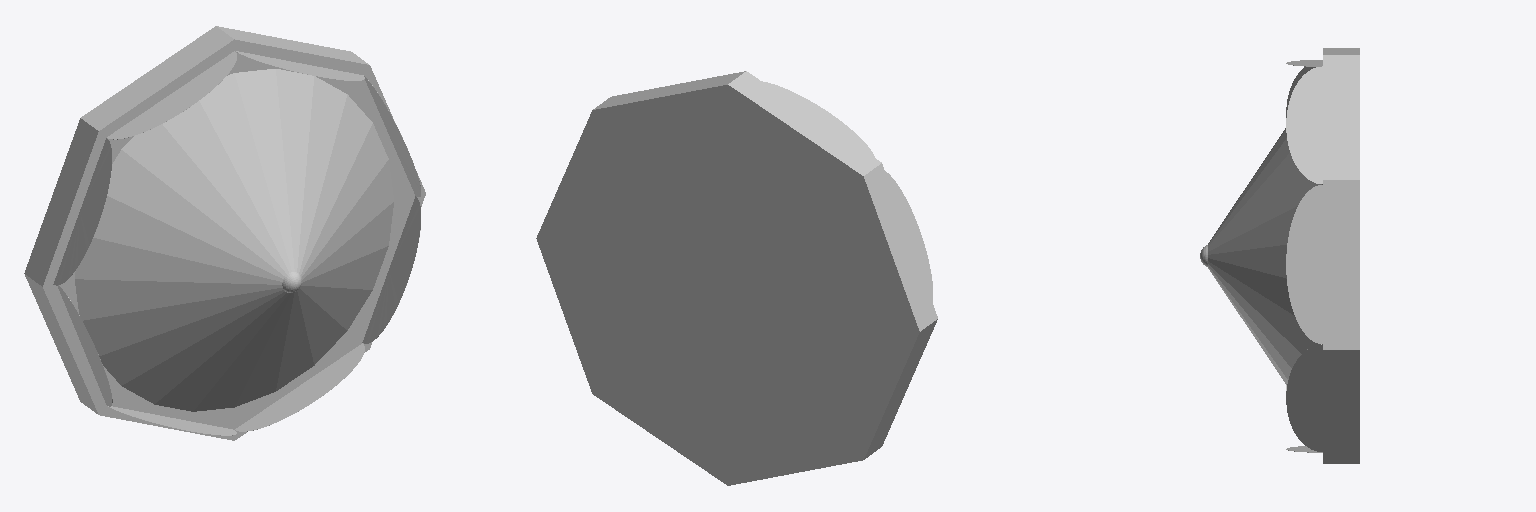
Rendered from carousel_top.obj.
3 views of the same model, side by side, from view 1: azimuth 30°, elevation 25°; view 2: azimuth 150°, elevation 25°; view 3: azimuth 270°, elevation 25° (orthographic).
Visible parts, largest first — view 1: obj_0; view 2: obj_0; view 3: obj_0.
Part boxes in pixels (left/top/right/bottom): obj_0: left=24, top=26, right=425, bottom=440; obj_0: left=536, top=71, right=937, bottom=485; obj_0: left=1200, top=48, right=1359, bottom=463.
Bounding box in the file's own units: 36 × 36 × 13.